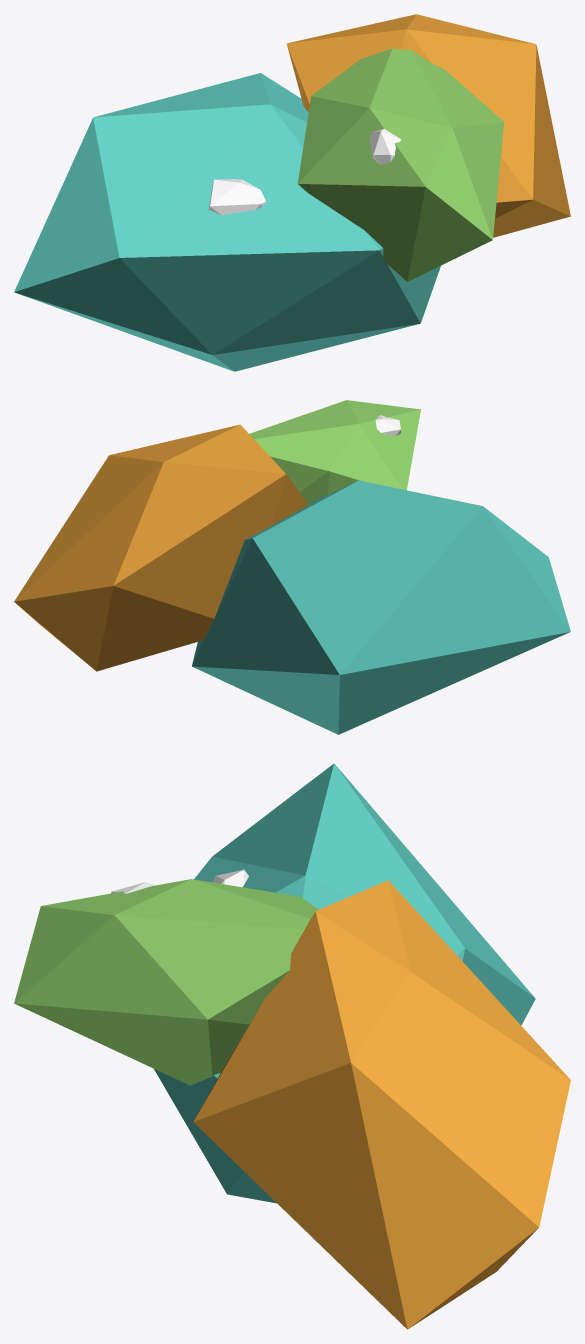
The model's file is cullet.glb.
The picture shows the model from 3 angles, top to bottom: view 1: azimuth 30°, elevation 25°; view 2: azimuth 150°, elevation 25°; view 3: azimuth 270°, elevation 25°; orthographic projection. The views are drawn at different scales.
Parts seen in each view (by area): view 1: cullet; view 2: cullet; view 3: cullet.
Boxes of the visible parts, x1=… form: cullet: x1=14, y1=14, x2=570, y2=371; cullet: x1=14, y1=400, x2=570, y2=734; cullet: x1=14, y1=763, x2=570, y2=1329.
Bounding box in the file's own units: 0.3276 × 0.169 × 0.2292.
